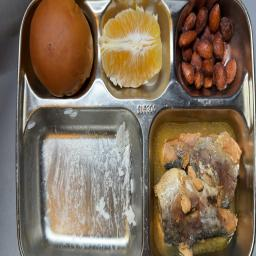100_bread: (27, 2, 96, 94)
100_fish: (152, 111, 247, 255)
100_nuts: (178, 3, 240, 92)
100_orange: (97, 11, 170, 92)
empty: (22, 106, 143, 256)
